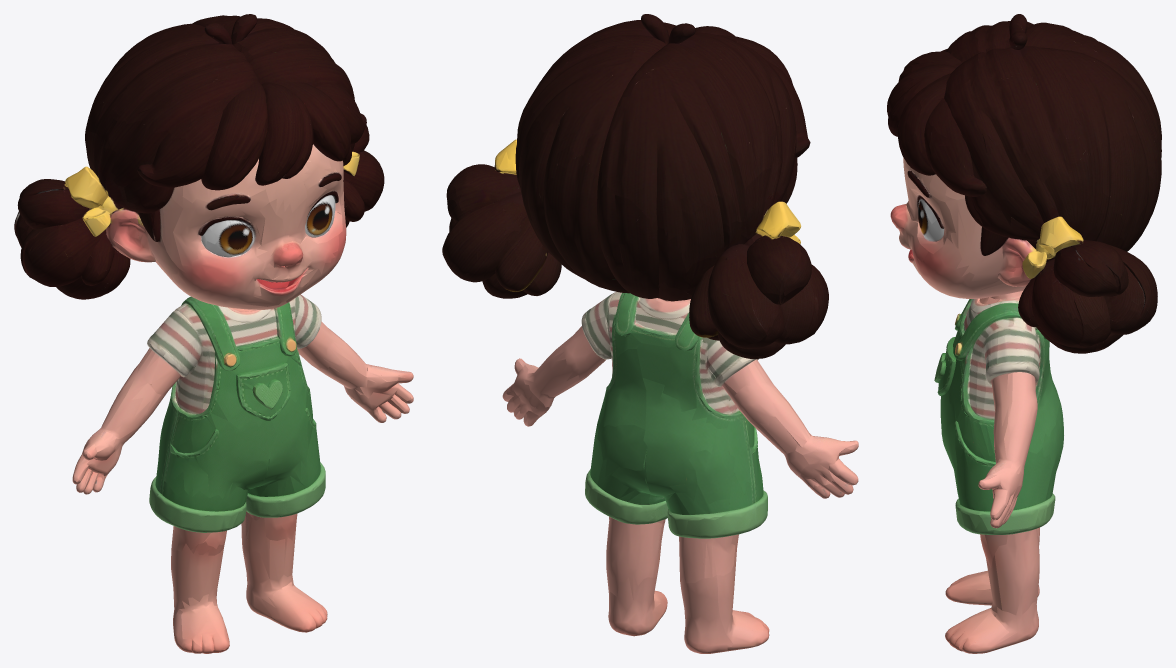
File: mira-v1.glb
3 views of the same model, side by side, from view 1: azimuth 30°, elevation 25°; view 2: azimuth 150°, elevation 25°; view 3: azimuth 270°, elevation 25° (orthographic). The views are drawn at different scales.
Bounding box in the file's own units: 1.18 × 1.9 × 0.794.
Materials: 1 (1 with a texture image).
